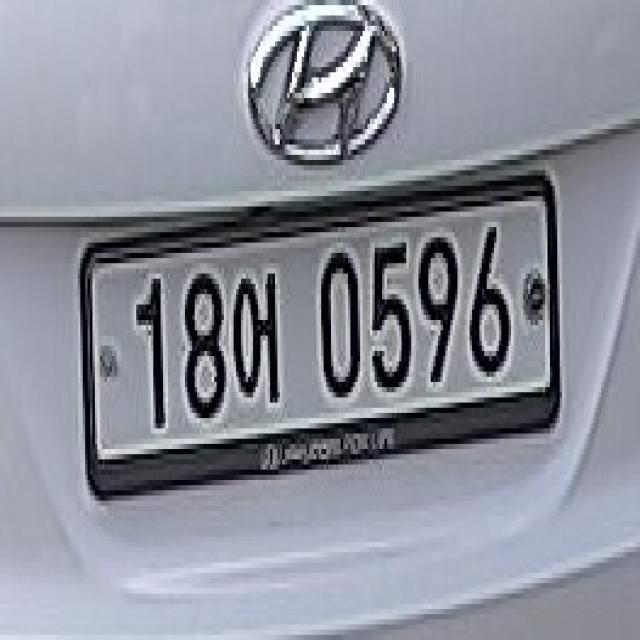0: (314, 237, 363, 408)
1: (131, 268, 173, 449)
5: (365, 232, 414, 403)
6: (465, 217, 513, 387)
8: (180, 263, 229, 434)
9: (414, 227, 462, 392)
eo: (231, 263, 285, 418)
license_plate: (78, 170, 562, 511)
